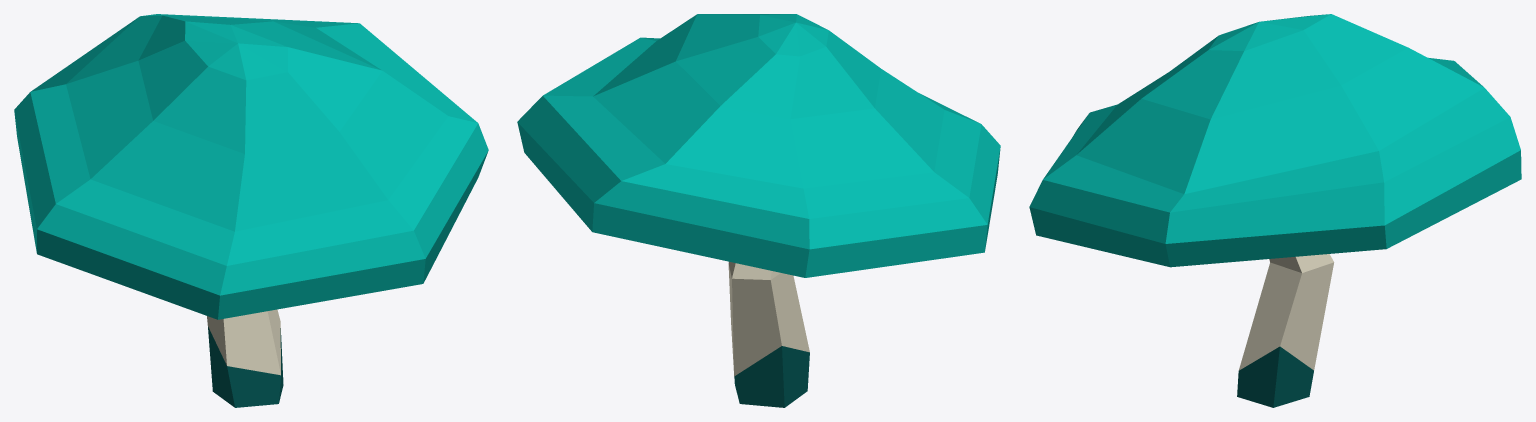
The model's file is rockshroom.fbx.
3 renders of one model, left to right at view 1: azimuth 30°, elevation 25°; view 2: azimuth 150°, elevation 25°; view 3: azimuth 270°, elevation 25°, orthographic. The views are drawn at different scales.
Parts seen in each view (by area): view 1: rock_top, rock_bot; view 2: rock_top, rock_bot; view 3: rock_top, rock_bot.
Part boxes in pixels (x1,y1,x2,y2): rock_top: [14, 14, 488, 319]; rock_bot: [207, 309, 283, 407]; rock_top: [517, 14, 1000, 277]; rock_bot: [728, 261, 809, 407]; rock_top: [1029, 14, 1521, 267]; rock_bot: [1237, 254, 1334, 407].
Bounding box in the file's own units: 3.22 × 2.76 × 3.41.
